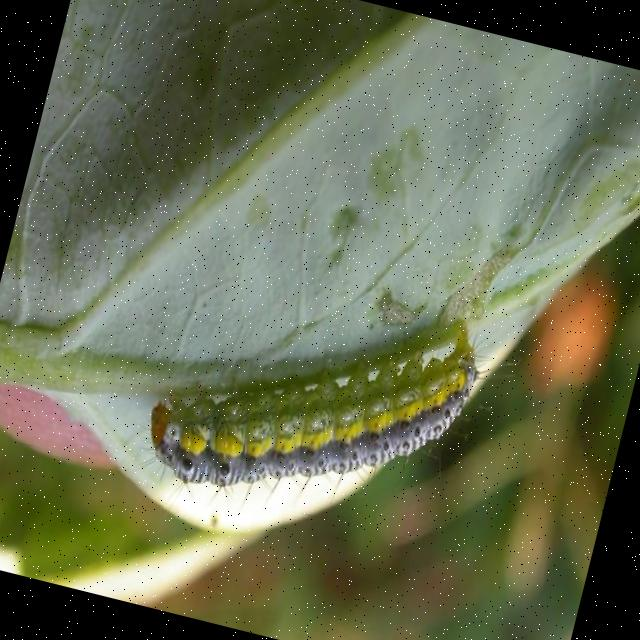worm: (140, 261, 502, 560)
